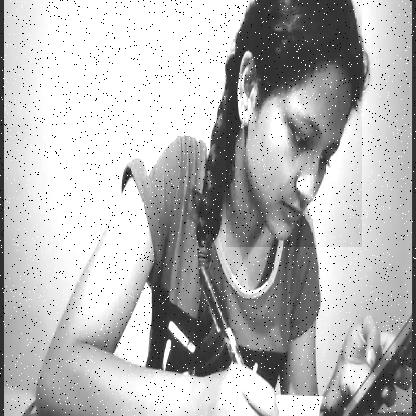Distracted: (226, 0, 362, 247)
